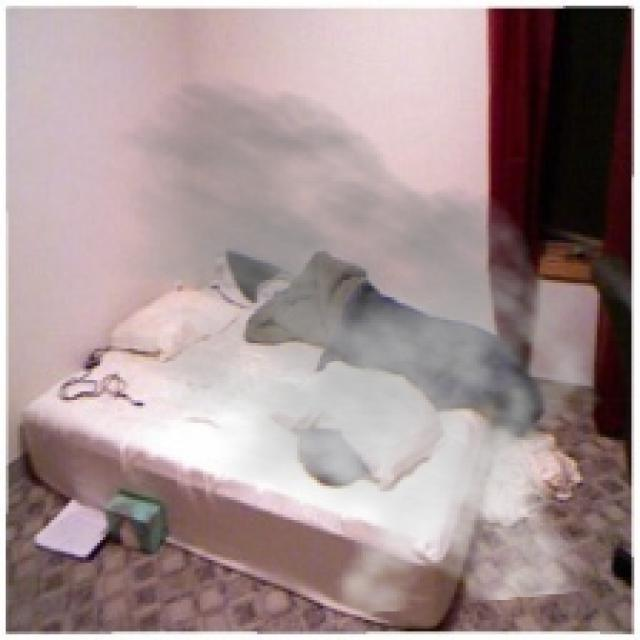Smoke: (63, 74, 620, 617)
